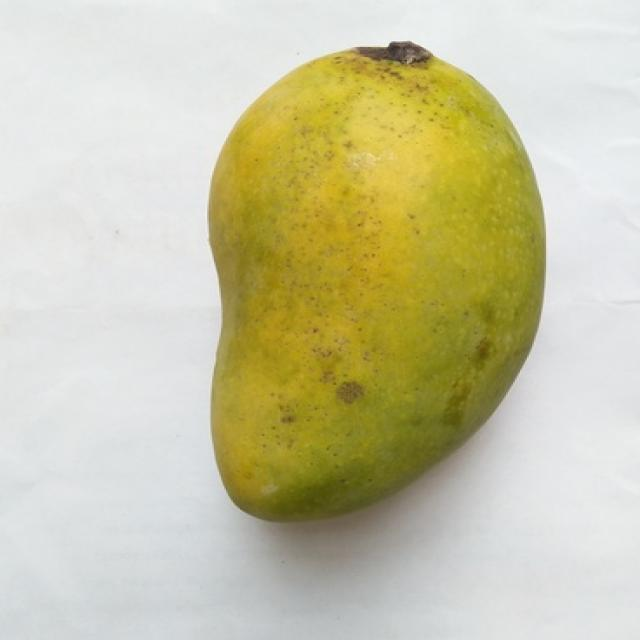Mango: (209, 43, 544, 520)
